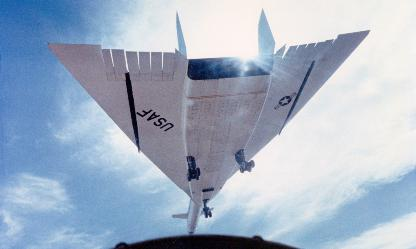U2: (46, 7, 370, 234)
